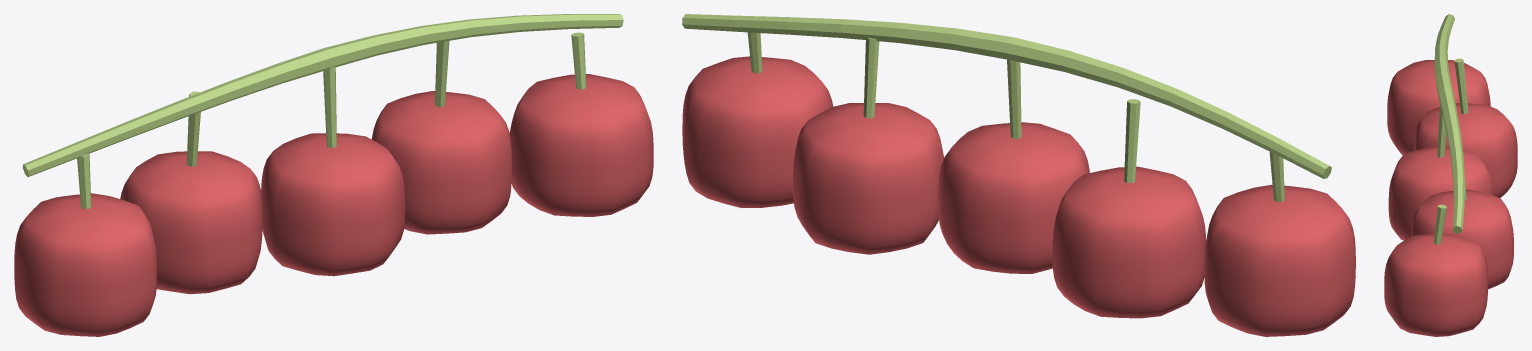
Rendered from fresh-produce-and-groceries-tomato-vine-truss-374f4a4b__24370.glb.
The picture shows the model from 3 angles, left to right: view 1: azimuth 30°, elevation 25°; view 2: azimuth 150°, elevation 25°; view 3: azimuth 270°, elevation 25°; orthographic projection. The views are drawn at different scales.
Visible parts, largest first — view 1: tomato-vine-truss; view 2: tomato-vine-truss; view 3: tomato-vine-truss.
Boxes of the visible parts, x1=… form: tomato-vine-truss: x1=14, y1=14, x2=653, y2=336; tomato-vine-truss: x1=682, y1=14, x2=1355, y2=336; tomato-vine-truss: x1=1384, y1=14, x2=1517, y2=336.
Size of the model in its own units: 0.2801 by 0.0903 by 0.0727.
